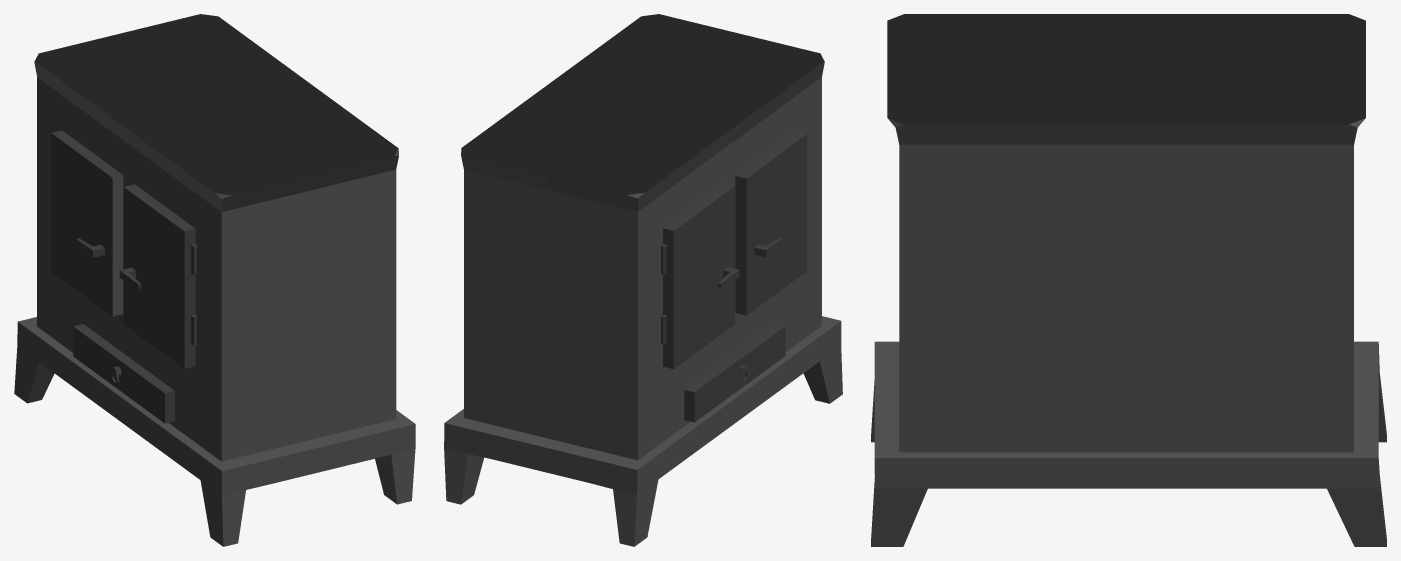
Rendered from woodstove01.gltf.
3 views of the same model, side by side, from view 1: azimuth 30°, elevation 25°; view 2: azimuth 150°, elevation 25°; view 3: azimuth 270°, elevation 25° (orthographic). The views are drawn at different scales.
Parts seen in each view (by area): view 1: Cylinder.001; view 2: Cylinder.001; view 3: Cylinder.001.
Part boxes in pixels (bbox=[...]): Cylinder.001: bbox=[14, 14, 415, 546]; Cylinder.001: bbox=[444, 14, 842, 546]; Cylinder.001: bbox=[871, 14, 1386, 546].
Size of the model in its own units: 0.5186 by 0.8202 by 0.9071.
Materials: 1 (1 with a texture image).
